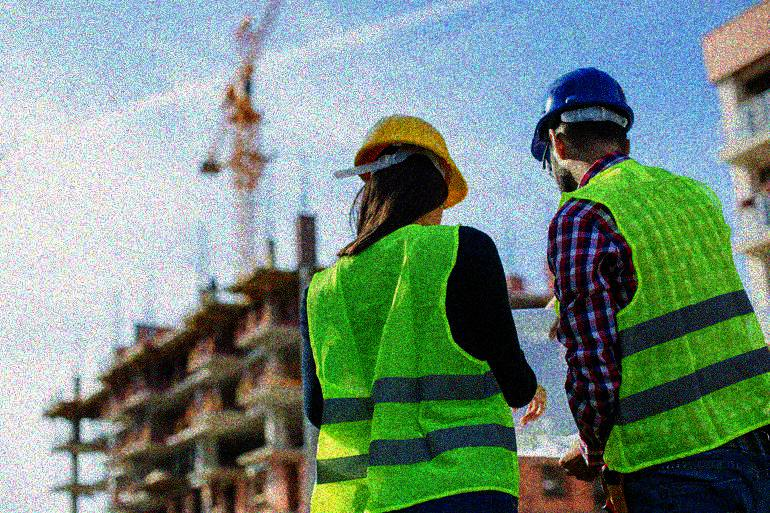helmet: (350, 112, 468, 227), (529, 65, 636, 190)
